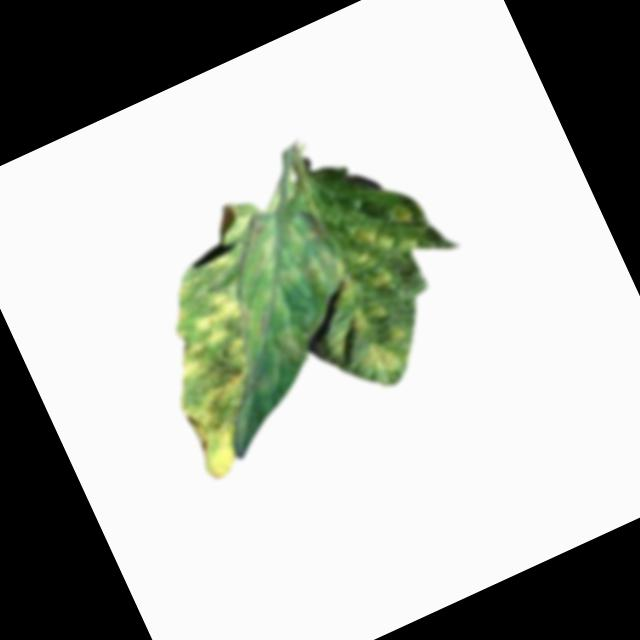Leaf_Mold: (124, 249, 314, 481), (208, 194, 373, 380), (333, 197, 435, 294), (349, 323, 417, 387), (340, 295, 390, 339)
